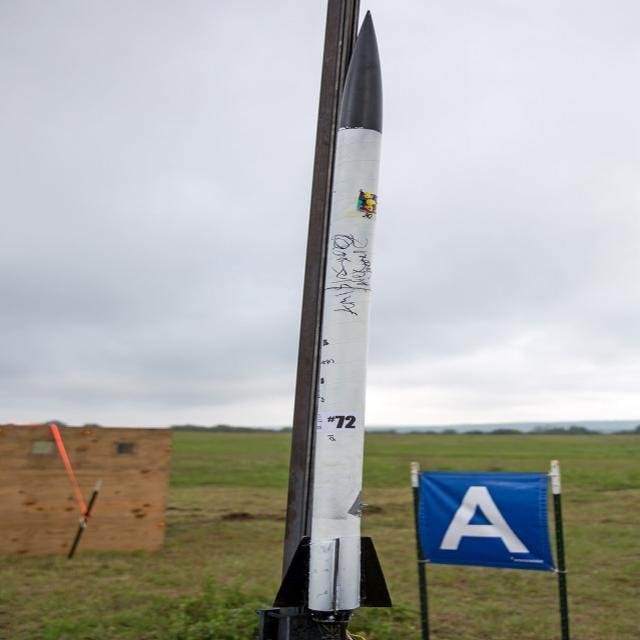missile: (297, 11, 390, 640)
